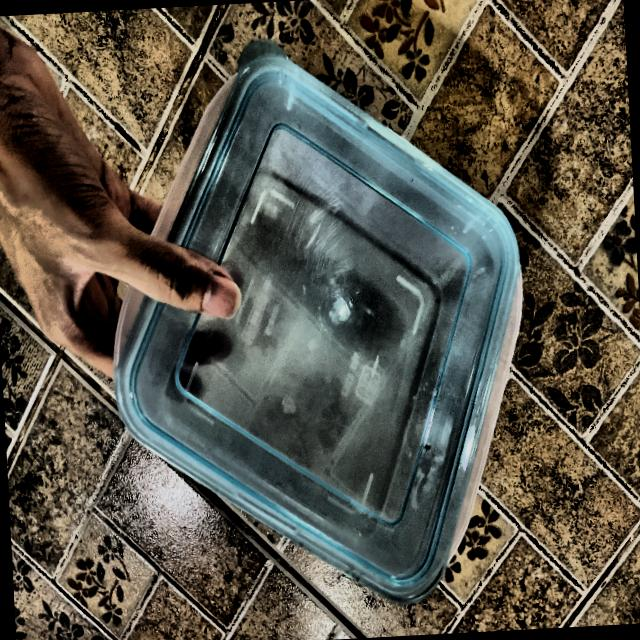plastic container: (116, 71, 564, 558)
